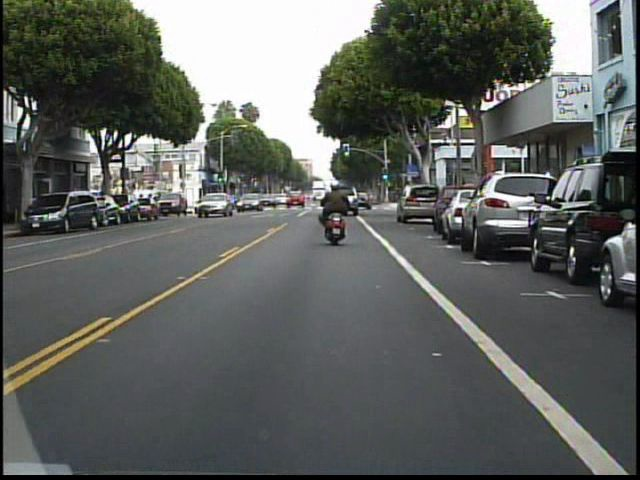person: (320, 176, 357, 246)
